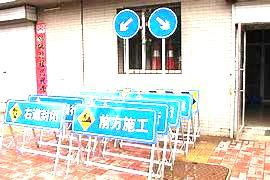sign: (75, 107, 155, 140), (5, 100, 62, 127)
